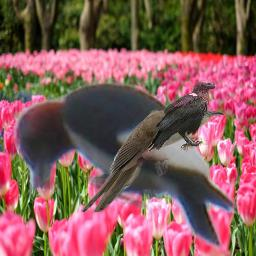Crow: (146, 81, 215, 152)
Cuckoo: (81, 104, 225, 212)
Woodpecker: (6, 76, 244, 253)
